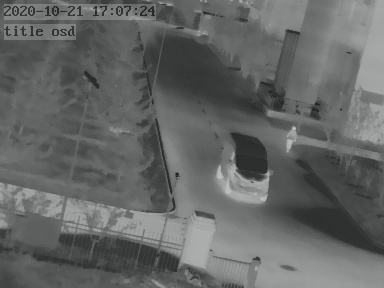person: (284, 124, 297, 155)
vehicle: (211, 131, 271, 198)
